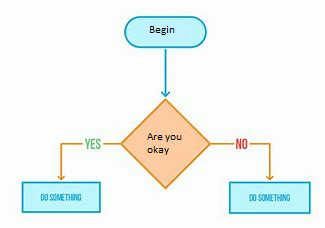arrow: (209, 142, 275, 181), (57, 141, 119, 181)
decision: (120, 98, 212, 190)
process: (228, 180, 314, 215), (21, 181, 102, 214)
terminator: (123, 15, 207, 49)
text: (145, 132, 182, 156), (39, 192, 82, 202), (247, 193, 293, 202), (148, 24, 175, 36), (84, 137, 101, 151), (234, 137, 248, 150)
